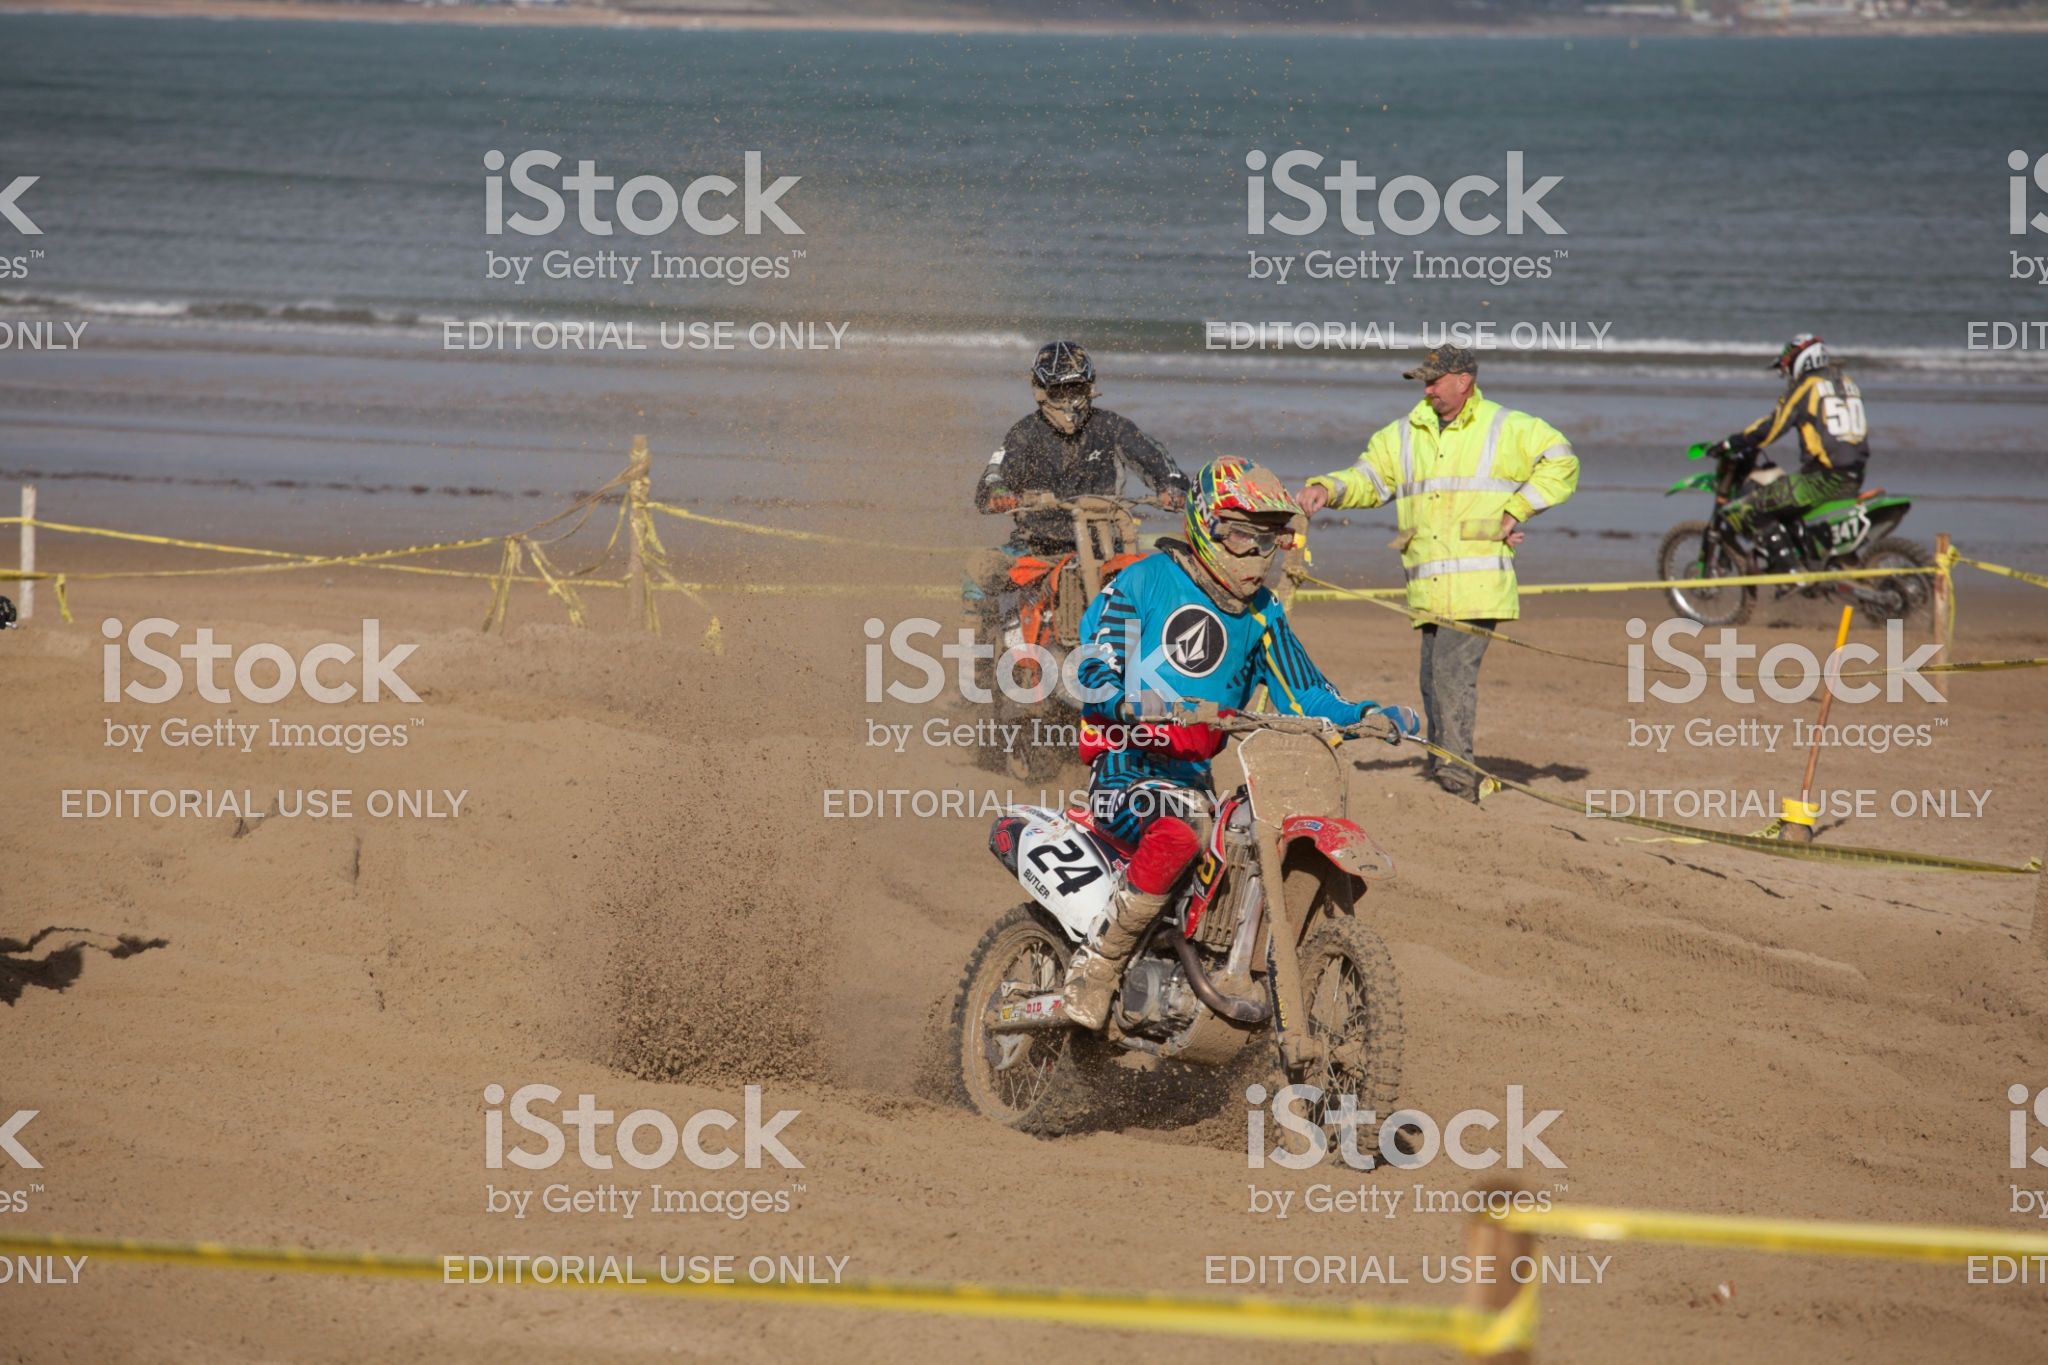helmet: (1186, 462, 1293, 588), (1025, 340, 1102, 427)
